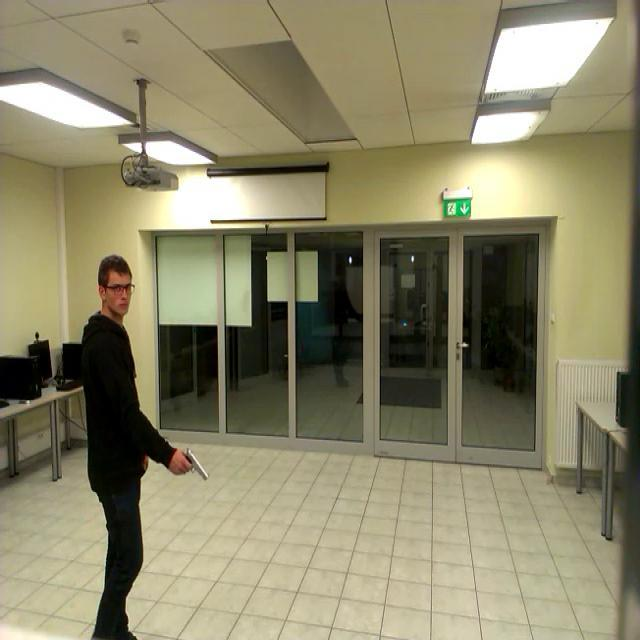Gun: (177, 447, 208, 479)
